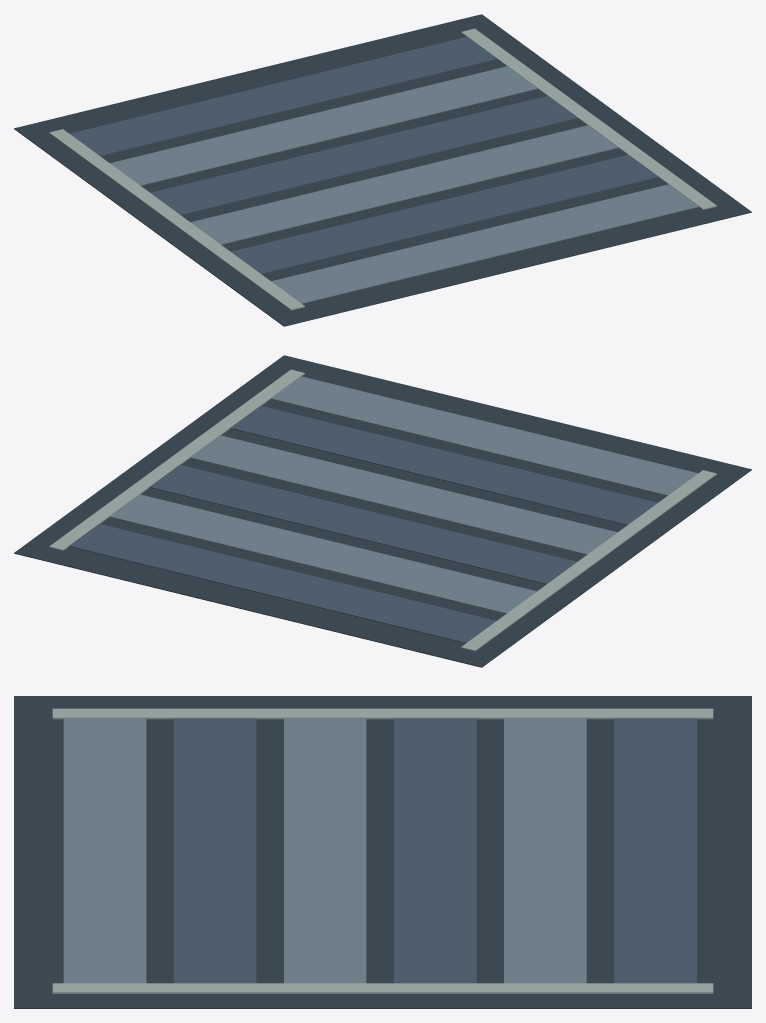
File: shade.glb
The picture shows the model from 3 angles, top to bottom: view 1: azimuth 30°, elevation 25°; view 2: azimuth 150°, elevation 25°; view 3: azimuth 270°, elevation 25°; orthographic projection. The views are drawn at different scales.
Visible parts, largest first — view 1: ShadeFrame, ShadeSlat0, ShadeSlat2, ShadeSlat3, ShadeSlat5, ShadeSlat1, ShadeSlat4, LeftRail, RightRail; view 2: ShadeFrame, ShadeSlat5, ShadeSlat0, ShadeSlat2, ShadeSlat1, ShadeSlat3, ShadeSlat4, LeftRail, RightRail; view 3: ShadeFrame, ShadeSlat0, ShadeSlat1, ShadeSlat3, ShadeSlat4, ShadeSlat5, ShadeSlat2, LeftRail, RightRail.
Boxes of the visible parts, <box> form: ShadeFrame: <box>14,14,751,326</box>; ShadeSlat0: <box>271,184,698,303</box>; ShadeSlat2: <box>191,125,618,244</box>; ShadeSlat3: <box>150,95,577,215</box>; ShadeSlat5: <box>70,37,497,156</box>; ShadeSlat1: <box>231,155,658,274</box>; ShadeSlat4: <box>110,66,537,185</box>; LeftRail: <box>49,129,304,310</box>; RightRail: <box>461,28,716,209</box>; ShadeFrame: <box>14,355,751,667</box>; ShadeSlat5: <box>69,524,496,643</box>; ShadeSlat0: <box>270,376,697,495</box>; ShadeSlat2: <box>190,435,617,554</box>; ShadeSlat1: <box>230,405,657,525</box>; ShadeSlat3: <box>149,465,577,584</box>; ShadeSlat4: <box>109,494,536,613</box>; LeftRail: <box>461,470,716,651</box>; RightRail: <box>49,369,304,550</box>; ShadeFrame: <box>14,696,751,1008</box>; ShadeSlat0: <box>63,718,146,983</box>; ShadeSlat1: <box>173,718,256,983</box>; ShadeSlat3: <box>394,718,476,983</box>; ShadeSlat4: <box>504,718,586,983</box>; ShadeSlat5: <box>614,718,696,983</box>; ShadeSlat2: <box>284,718,366,983</box>; LeftRail: <box>52,708,713,719</box>; RightRail: <box>52,983,713,993</box>.
Size of the model in its own units: 1.34 by 0.005 by 1.34.
